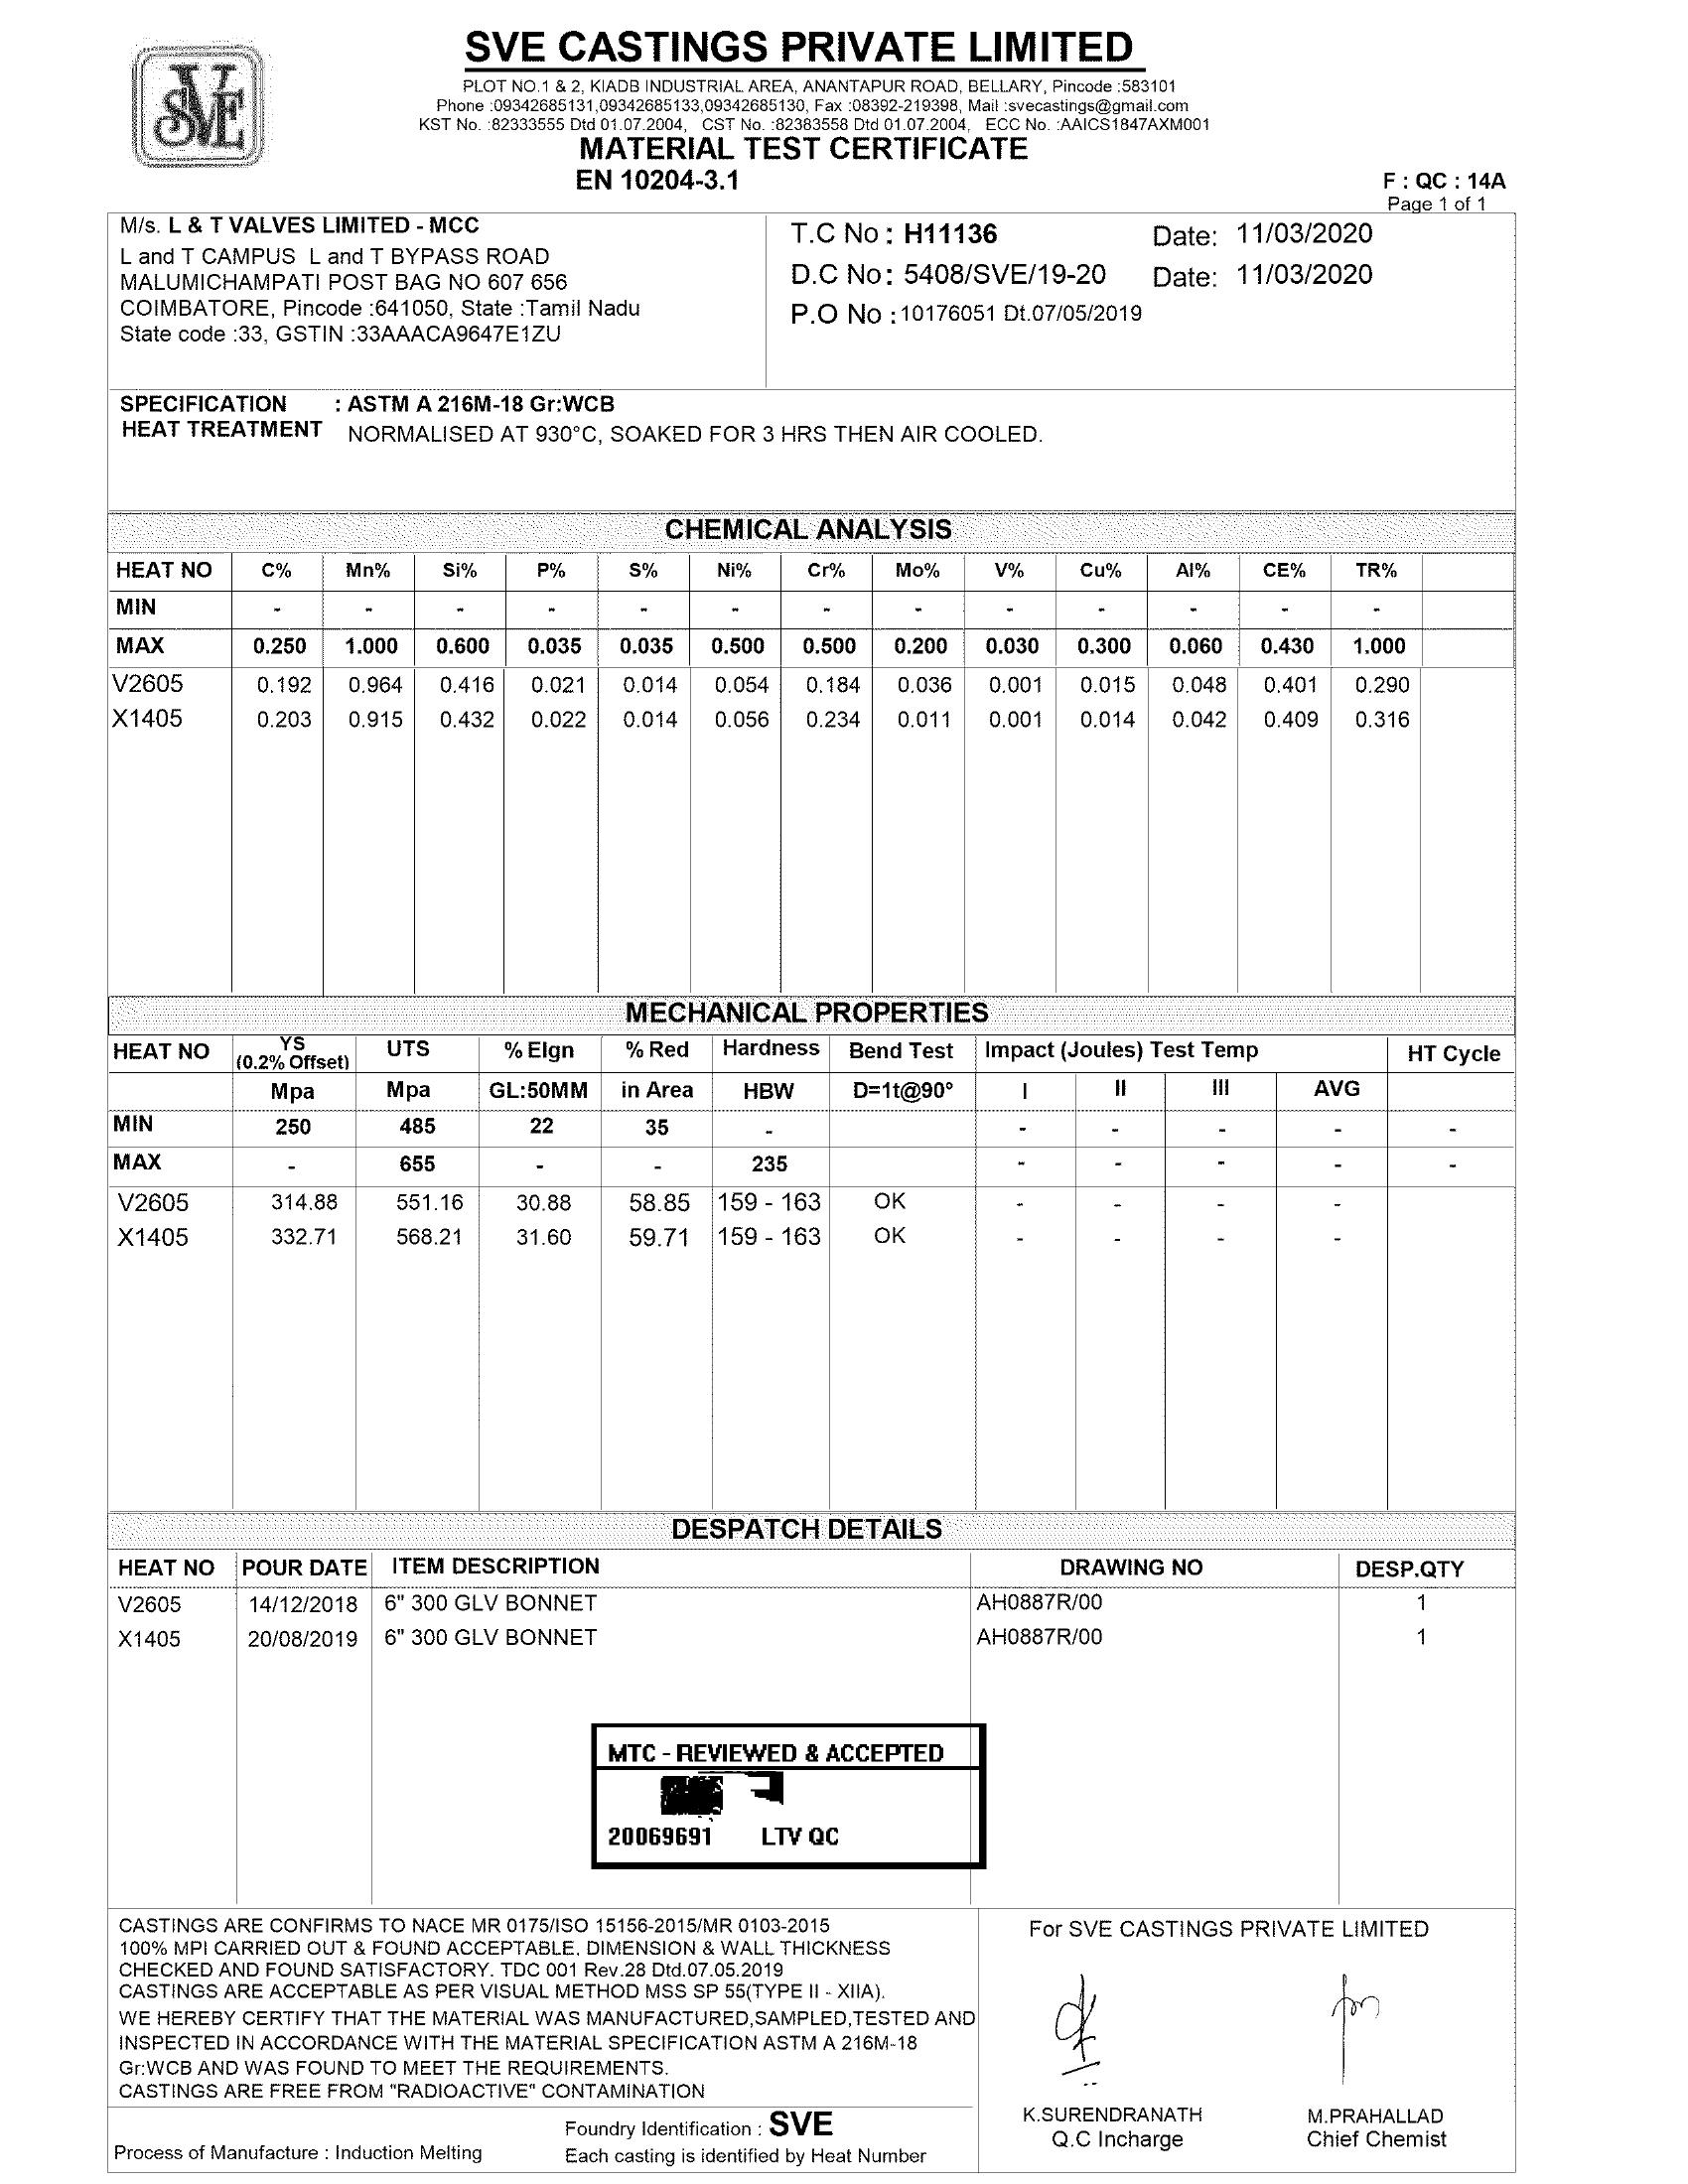cell: (621, 998, 1002, 1025), (988, 1037, 1270, 1072), (645, 514, 963, 541), (231, 1037, 363, 1072), (108, 697, 222, 734), (232, 697, 321, 739), (488, 1039, 603, 1071), (1401, 1039, 1504, 1074), (482, 1074, 596, 1106), (1342, 631, 1429, 672), (511, 1218, 582, 1267), (1332, 700, 1413, 743), (837, 1037, 945, 1069), (713, 1037, 833, 1065), (362, 1035, 463, 1069), (117, 558, 222, 590), (113, 1039, 218, 1071), (844, 1081, 954, 1111), (970, 665, 1057, 702), (1078, 1069, 1165, 1106), (723, 1227, 819, 1260), (505, 706, 596, 741), (330, 702, 415, 739), (598, 706, 697, 737), (1245, 702, 1325, 741), (1176, 1074, 1255, 1113), (108, 667, 200, 700), (115, 1184, 202, 1220), (598, 665, 693, 697), (785, 706, 876, 739), (259, 1221, 349, 1255), (713, 1189, 835, 1214), (702, 663, 778, 702), (612, 1037, 704, 1069), (1057, 635, 1144, 668), (415, 668, 505, 700), (879, 707, 970, 739), (972, 707, 1062, 739), (1392, 1113, 1500, 1140), (337, 631, 413, 668), (704, 702, 780, 739), (333, 665, 413, 700), (784, 668, 872, 700), (1060, 667, 1144, 700), (238, 668, 324, 700), (720, 1078, 823, 1104), (387, 1189, 482, 1218), (332, 551, 404, 589), (1333, 675, 1422, 706), (610, 1078, 704, 1106), (1243, 558, 1326, 590), (610, 551, 681, 589), (1156, 558, 1234, 592), (420, 706, 498, 739), (388, 1221, 466, 1255), (876, 668, 963, 698), (431, 548, 495, 589), (243, 1078, 340, 1104), (511, 1184, 580, 1221), (241, 633, 317, 667), (986, 1154, 1062, 1188), (603, 633, 688, 663), (966, 635, 1051, 665), (972, 557, 1051, 589), (113, 1149, 184, 1184), (367, 1074, 450, 1104), (521, 551, 589, 589), (702, 551, 770, 589), (621, 1228, 715, 1255), (1151, 635, 1232, 665), (1293, 1074, 1369, 1106), (1248, 667, 1316, 702), (262, 1149, 330, 1184), (984, 1078, 1067, 1106), (787, 638, 876, 665), (697, 635, 773, 665), (878, 635, 957, 663), (1156, 707, 1231, 737), (257, 1193, 348, 1218), (1241, 638, 1319, 667), (512, 672, 590, 700), (115, 1223, 193, 1252), (794, 551, 860, 585), (1342, 564, 1415, 594), (622, 1189, 695, 1220), (1293, 1188, 1365, 1218), (1067, 557, 1131, 590), (739, 1154, 810, 1184), (381, 1115, 456, 1143), (1177, 1197, 1261, 1221), (424, 635, 496, 663), (986, 1189, 1050, 1221), (878, 558, 945, 589), (521, 635, 589, 665), (1076, 707, 1137, 741), (512, 1149, 569, 1184), (1186, 1228, 1252, 1259), (864, 1220, 922, 1253), (387, 1152, 456, 1181), (637, 1149, 688, 1186), (624, 1110, 686, 1140), (996, 1113, 1059, 1143), (115, 633, 174, 665), (246, 557, 312, 585), (1151, 668, 1225, 693), (252, 1119, 339, 1140), (1298, 1234, 1372, 1259), (119, 590, 172, 624), (1087, 1193, 1153, 1220), (1090, 1228, 1156, 1255), (1418, 1154, 1488, 1179), (108, 1115, 168, 1143), (516, 1111, 580, 1138), (1184, 1115, 1250, 1140), (1092, 1152, 1149, 1181), (1301, 1115, 1364, 1140), (1183, 1156, 1248, 1179), (869, 1189, 917, 1220), (1096, 1111, 1140, 1143), (995, 1228, 1046, 1253), (523, 599, 578, 622), (1167, 597, 1216, 622), (340, 599, 388, 624), (1257, 597, 1305, 622), (1310, 1152, 1358, 1177), (894, 599, 945, 622), (1348, 599, 1399, 622), (979, 599, 1037, 619), (711, 601, 764, 622), (1082, 601, 1135, 622), (736, 1120, 798, 1138), (803, 599, 853, 619), (619, 599, 672, 617), (442, 601, 479, 622), (255, 599, 293, 619)
table: (106, 991, 1518, 1510), (106, 509, 1523, 994)
